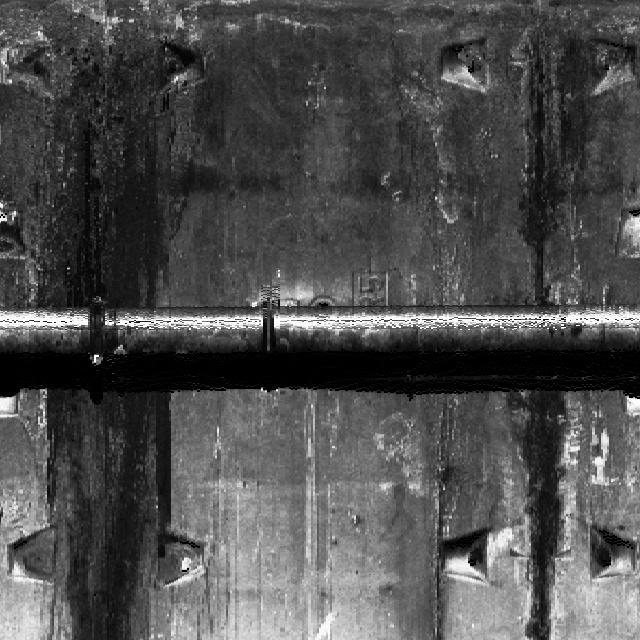leakage: (0, 0, 179, 308), (21, 386, 175, 637), (492, 12, 571, 303), (505, 386, 579, 639)
